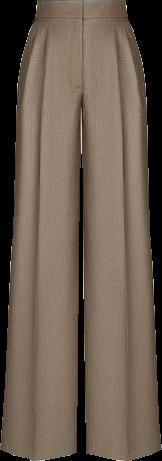Hemline: (84, 442, 161, 460), (0, 445, 76, 460)
Pantleg: (1, 0, 81, 460), (82, 0, 160, 460)
Waistline: (33, 13, 129, 23), (36, 0, 125, 5)
